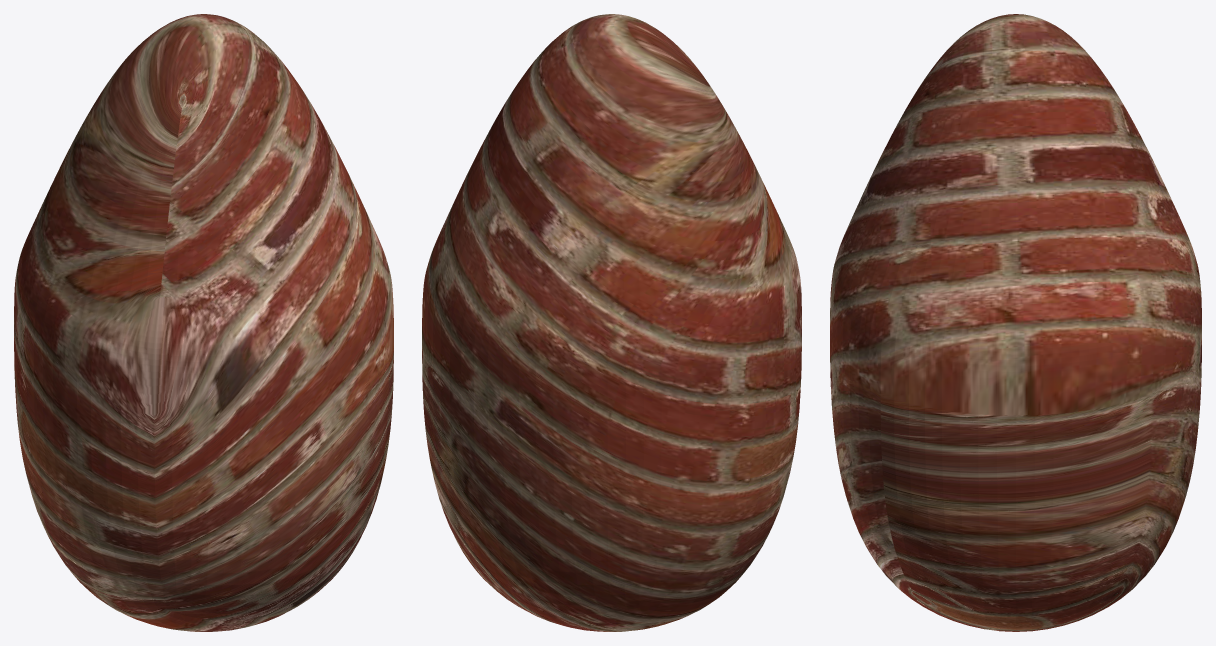
File: boxcone.glb
3 renders of one model, left to right at view 1: azimuth 30°, elevation 25°; view 2: azimuth 150°, elevation 25°; view 3: azimuth 270°, elevation 25°, orthographic.
Parts seen in each view (by area): view 1: Object; view 2: Object; view 3: Object.
Boxes of the visible parts, bbox=[...] form: Object: bbox=[14, 14, 393, 631]; Object: bbox=[422, 14, 801, 631]; Object: bbox=[830, 14, 1201, 631].
Size of the model in its own units: 1.83 by 3.23 by 1.83.
1 material, 1 textured.
